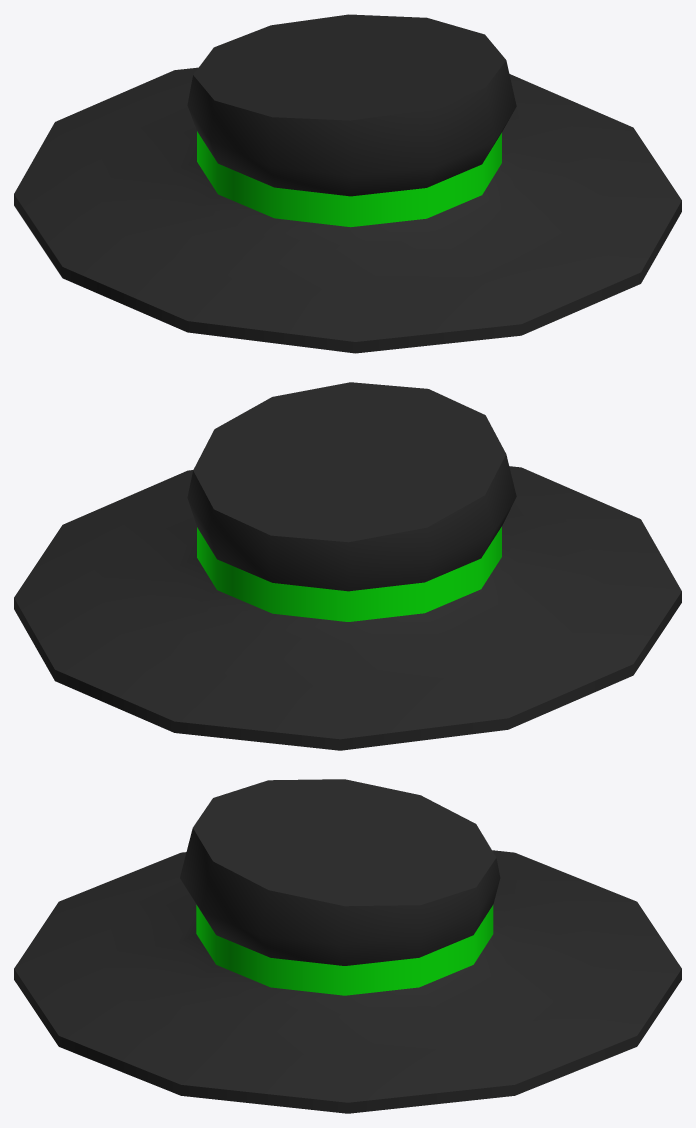
File: Char_CR_Head_Hat.FBX
3 views of the same model, one above another, from view 1: azimuth 30°, elevation 25°; view 2: azimuth 150°, elevation 25°; view 3: azimuth 270°, elevation 25° (orthographic). The views are drawn at different scales.
Visible parts, largest first — view 1: Cylinder001; view 2: Cylinder001; view 3: Cylinder001.
Part boxes in pixels (x1,y1,x2,y2): Cylinder001: (14,14,681,353); Cylinder001: (14,382,681,750); Cylinder001: (14,779,681,1113).
Bounding box in the file's own units: 34.37 × 9.09 × 36.19.
